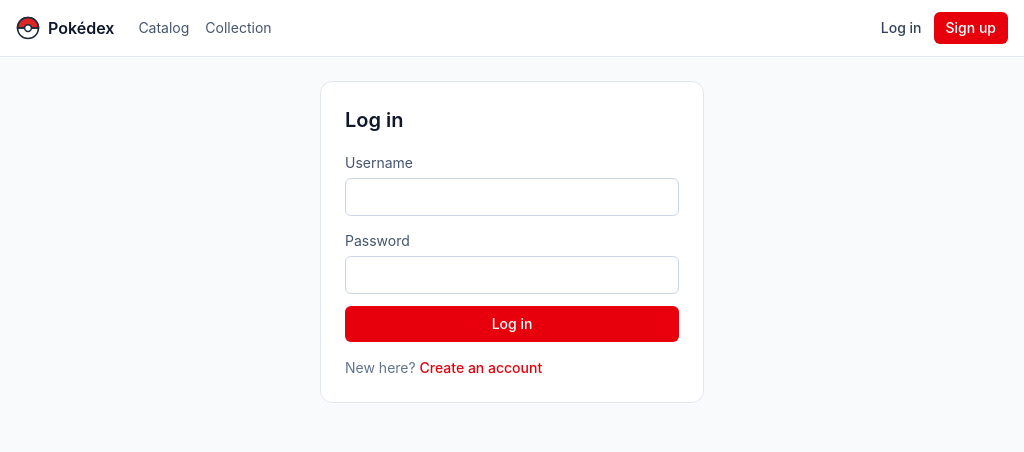
Test case: authentication › explains wrong credentials without saying which one was wrong
In the field labelled "Username": (512, 197) [345, 178, 679, 216], type "ash"
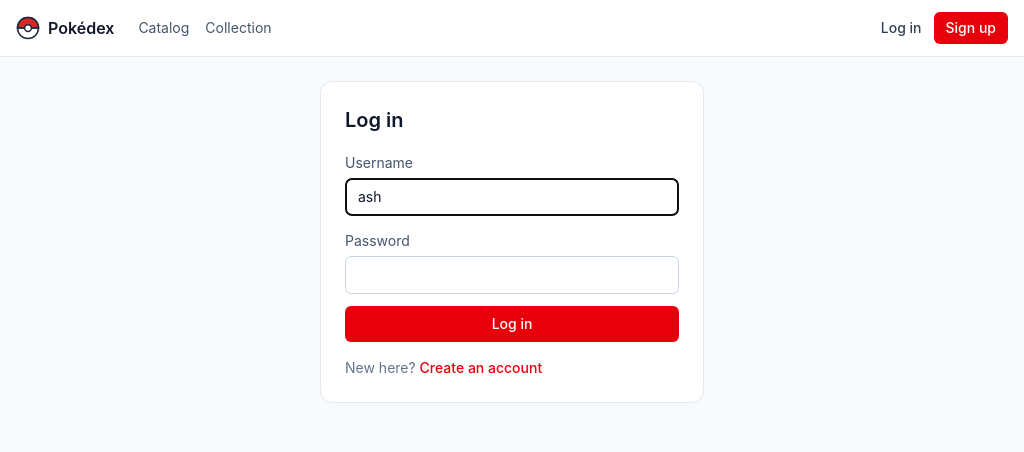
In the password field labelled "Password": (512, 275) [345, 256, 679, 294], type "not-the-password"
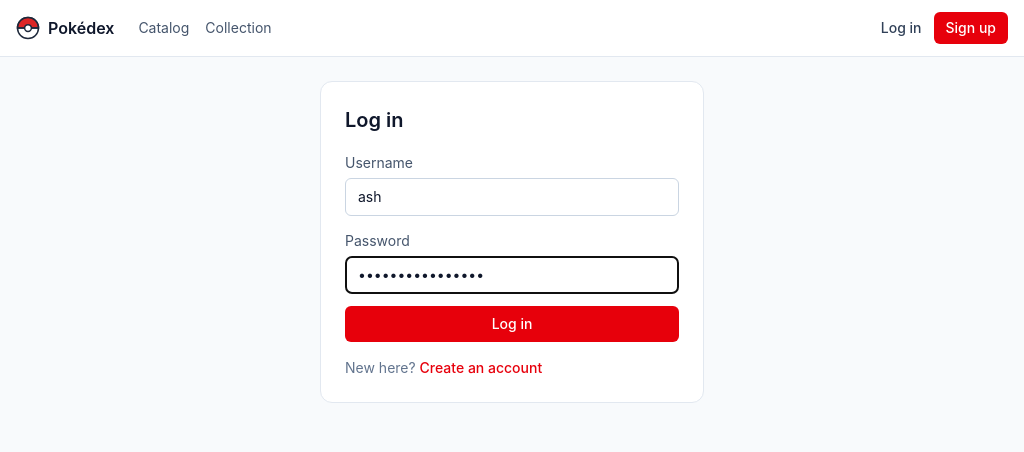
Click the button "Log in": (512, 324) [345, 306, 679, 342]
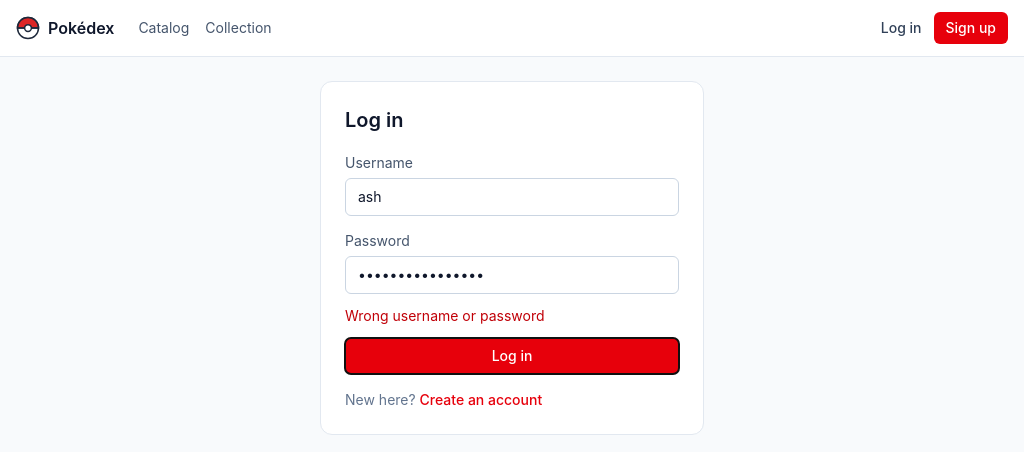
Expected: the message reads "Wrong username or password", [345, 307, 544, 324]
